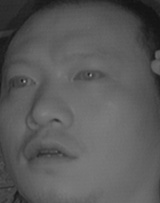eye: (70, 64, 105, 86), (7, 70, 38, 91)
mouth: (19, 132, 80, 169)
